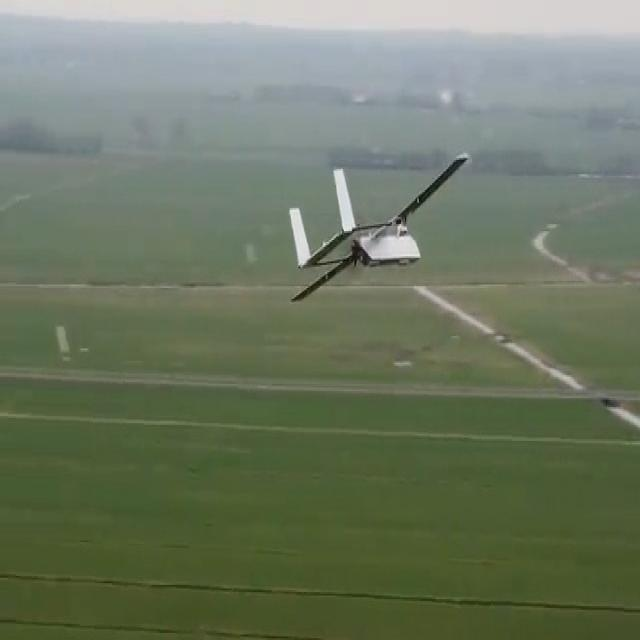iha: (282, 144, 472, 311)
